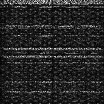lte: (1, 1, 104, 6), (1, 47, 104, 50), (1, 55, 104, 58), (1, 80, 104, 83), (1, 89, 104, 92)
